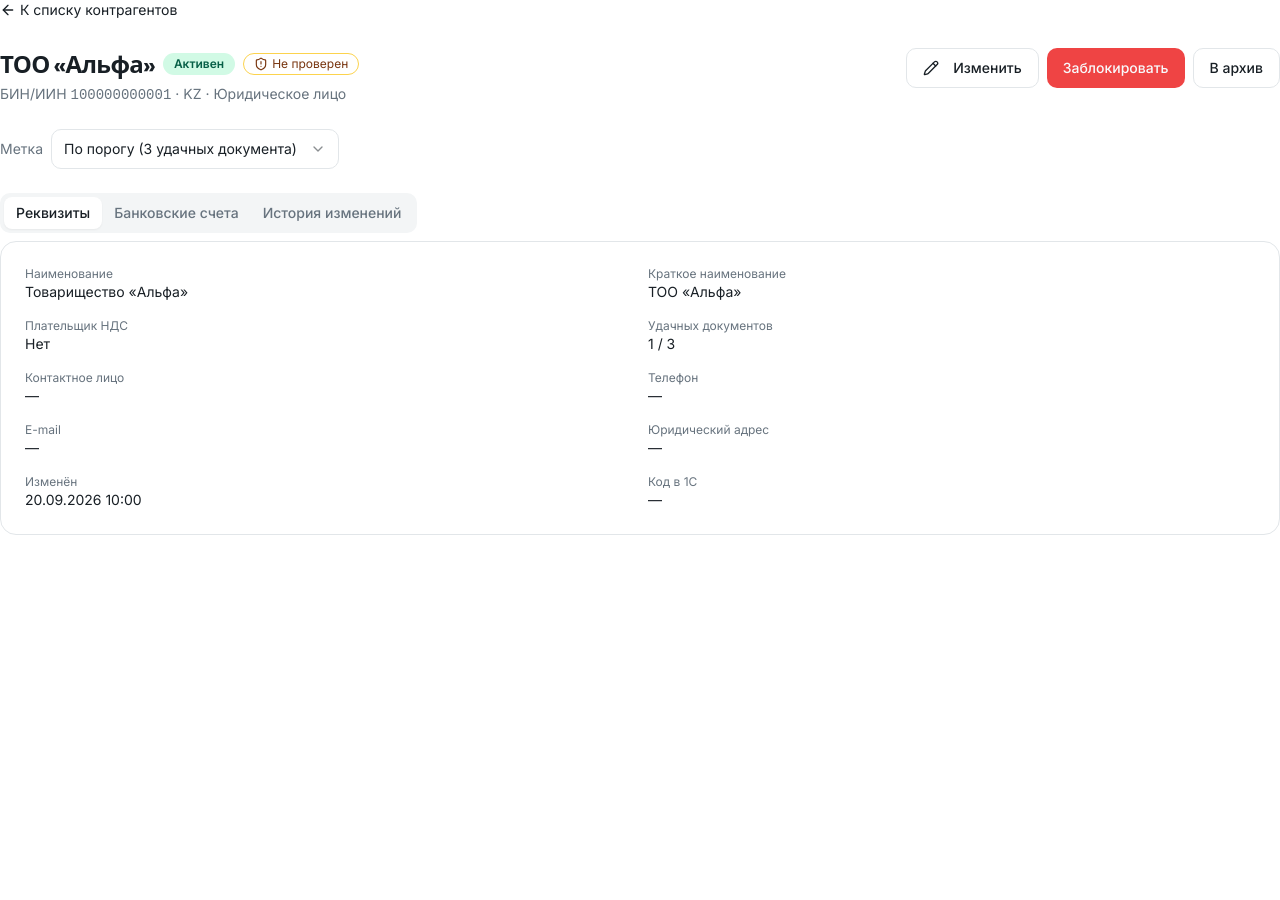
Test: CounterpartyCardPage › блокировка: причина короче 10 символов не отправляется, с 10 — уходит с version
Click the button "Заблокировать" at point(1116, 68), box [1047,48,1185,88]
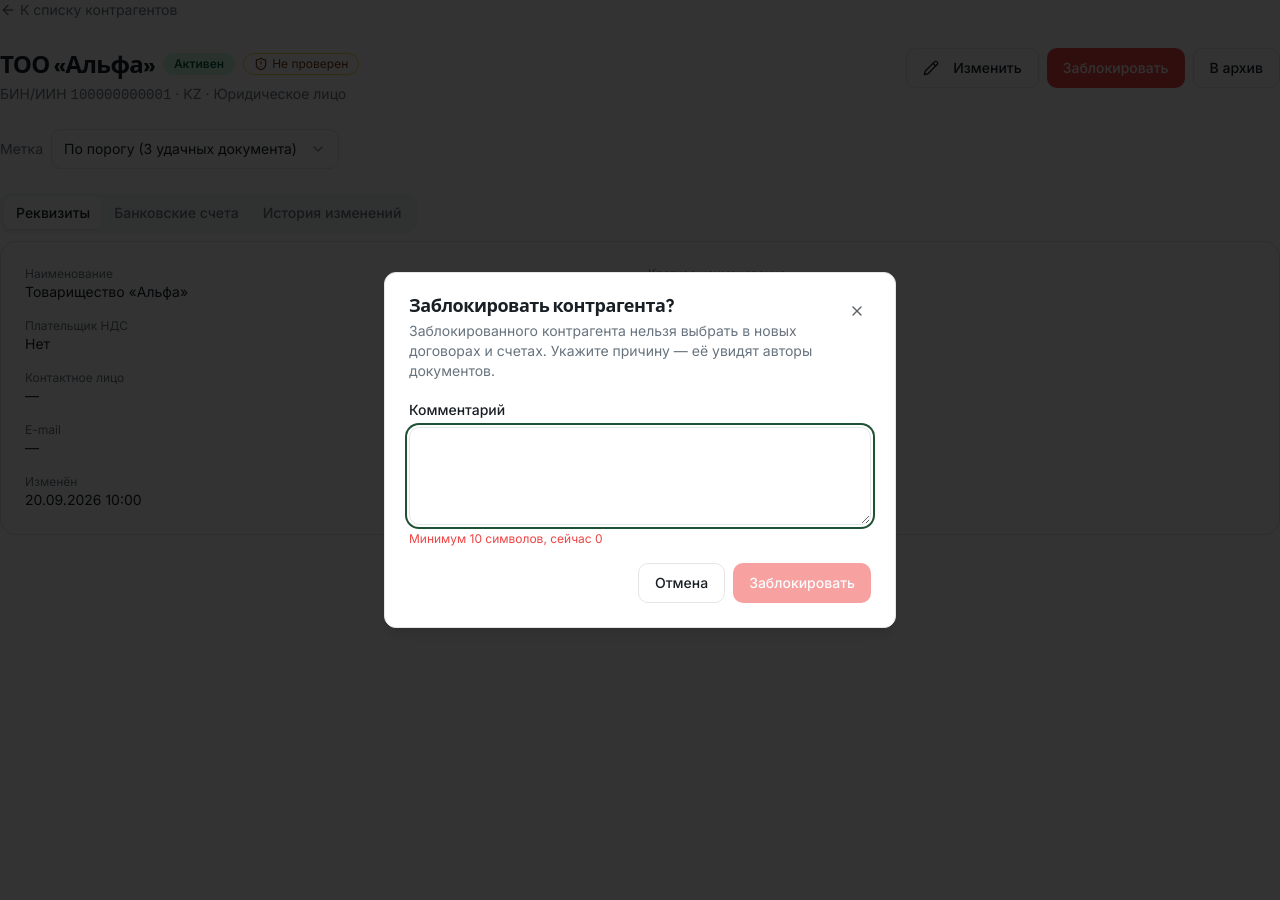
Type "123456789" into the text box labelled "Комментарий" at point(640, 476), box [409,427,871,525]
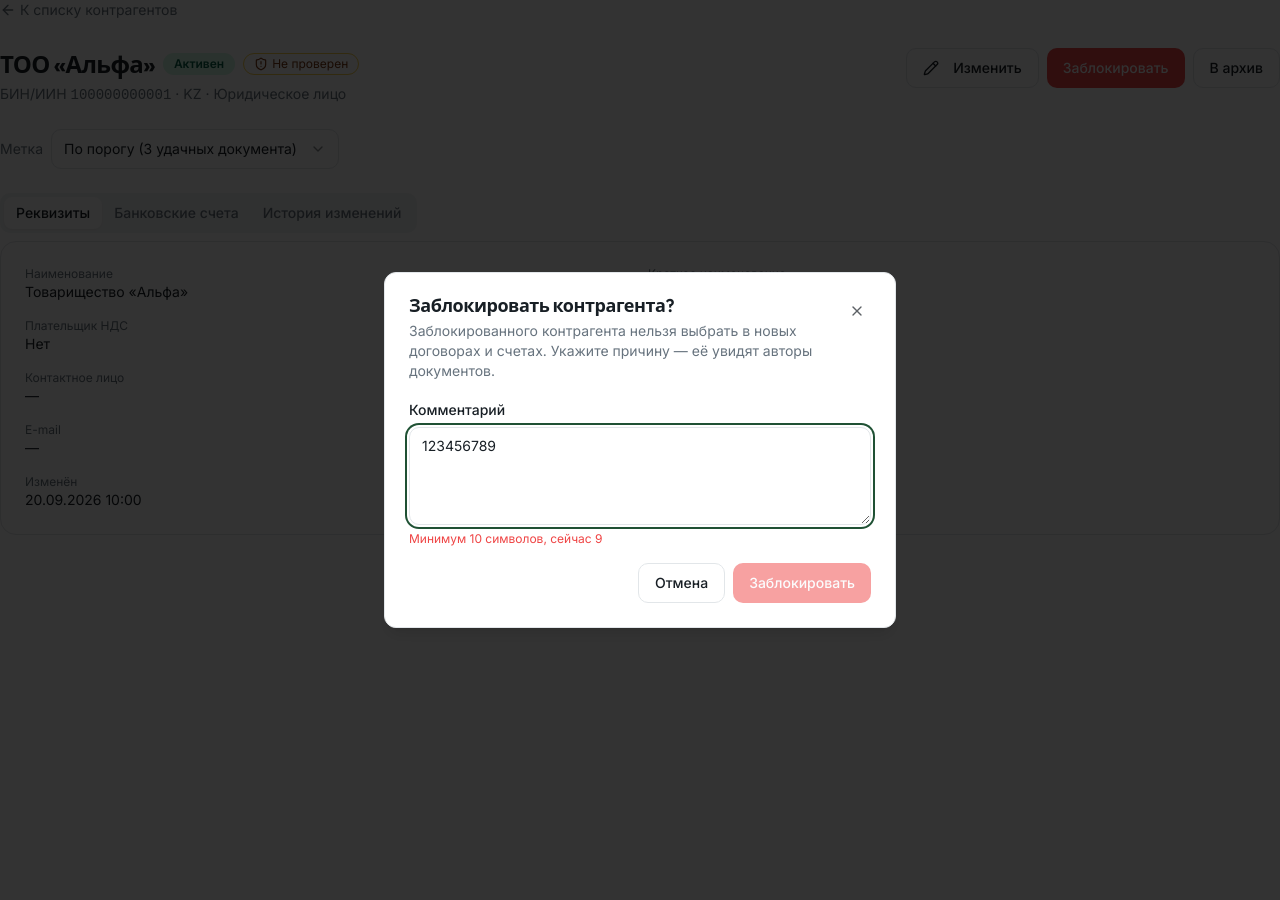
Now the button "Заблокировать" is disabled, box [733,563,871,603]
Now the dialog shows "Минимум 10 символов, сейчас 9", box [409,531,602,546]
Replace the text in the text box labelled "Комментарий" with "Срыв сроков" at point(640, 476), box [409,427,871,525]
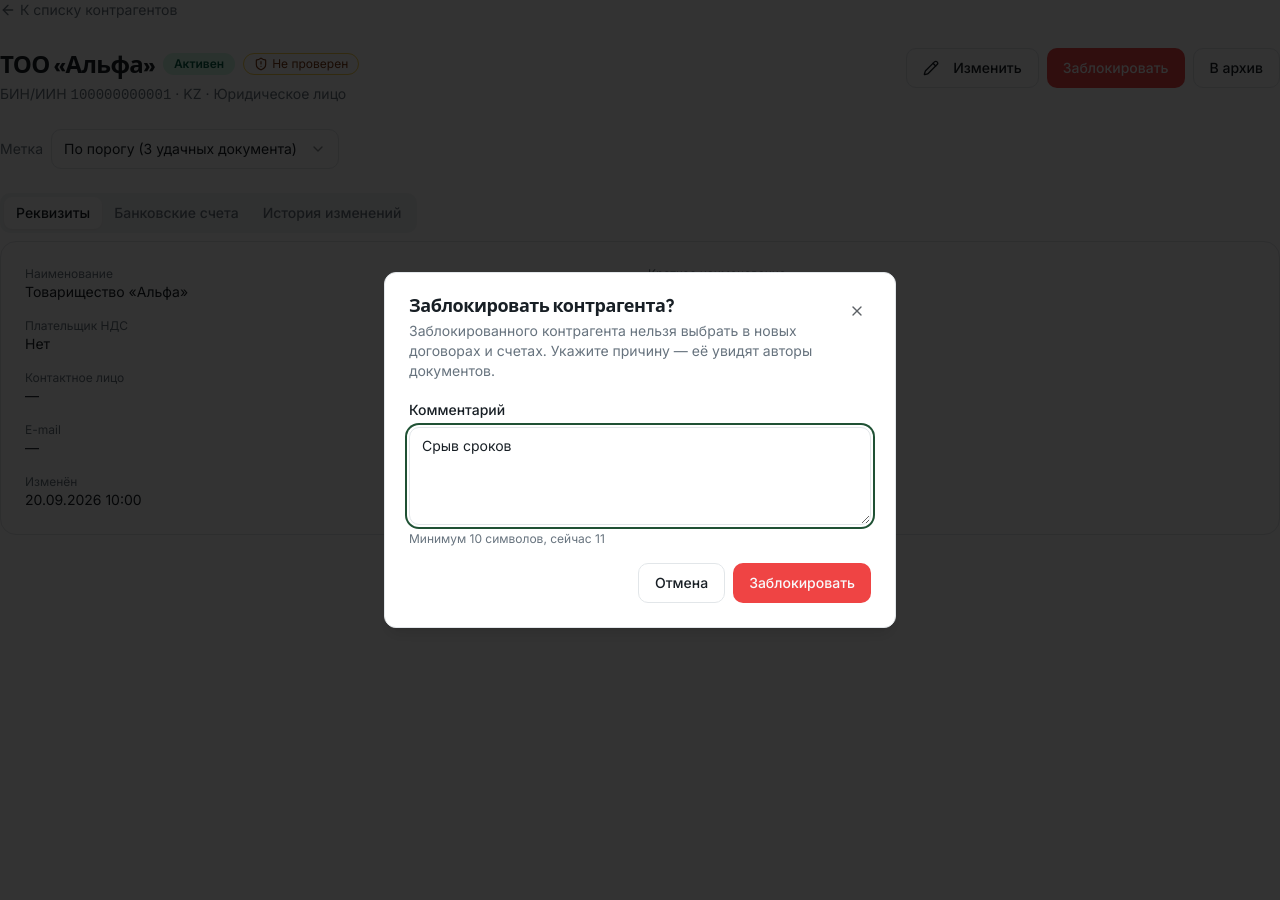
Now the button "Заблокировать" is enabled
Click the button "Заблокировать" at point(802, 583), box [733,563,871,603]
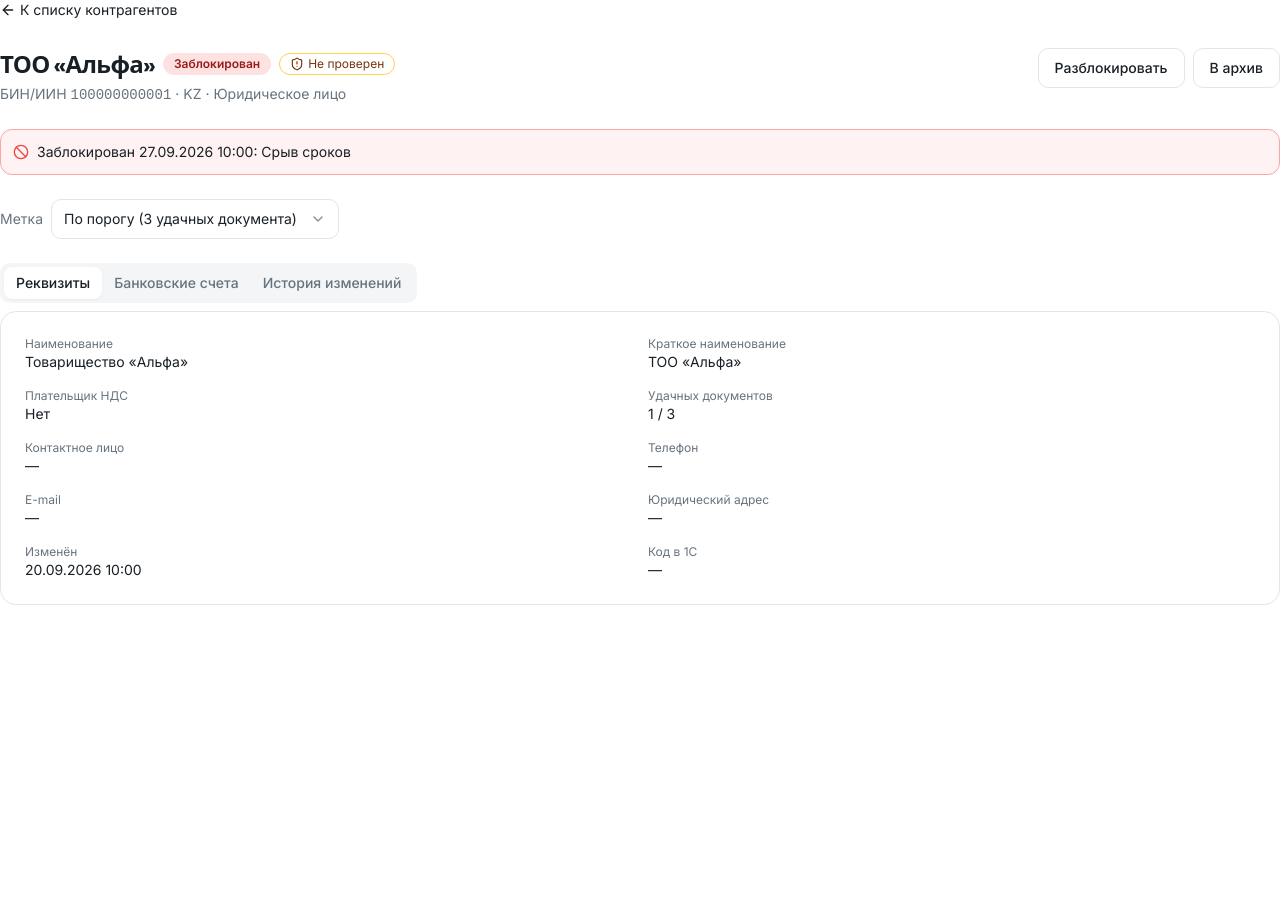
Now the text "Заблокирован 27.09.2026 10:00: Срыв сроков" is shown, box [37,142,351,162]
Now the button "Разблокировать" is shown, box [1038,48,1184,88]
